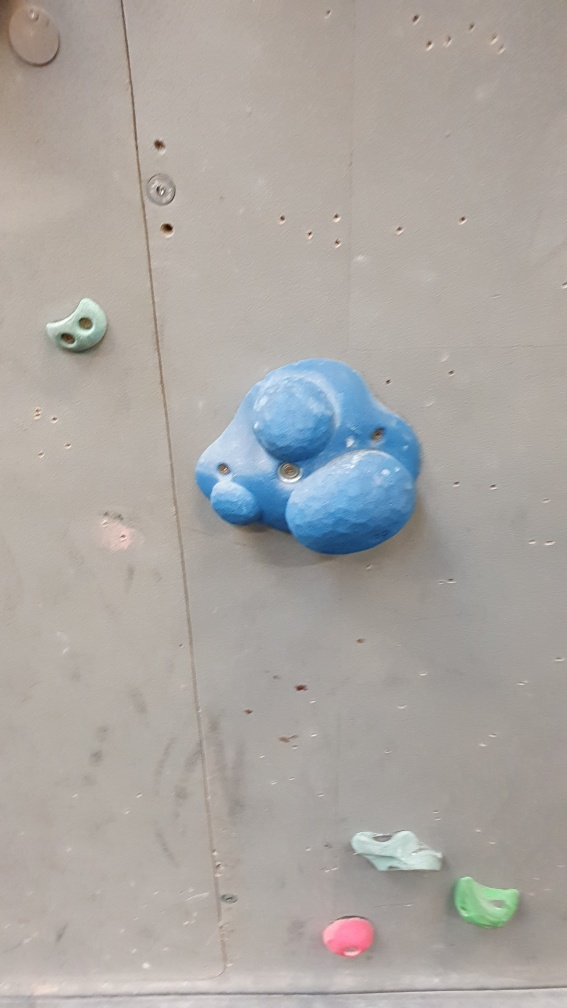Sloper: (192, 353, 426, 560)
